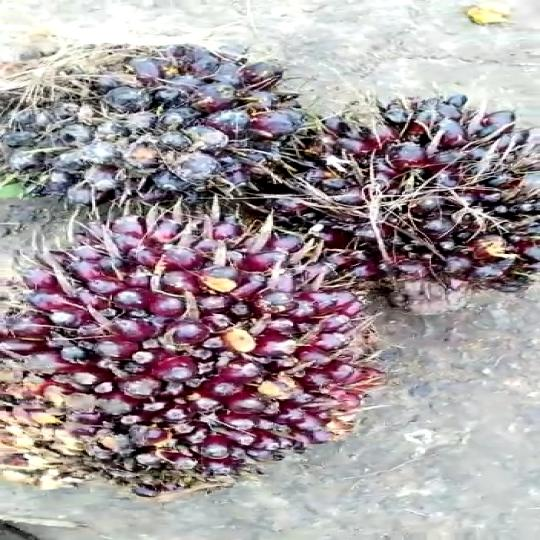kurang masak: (0, 207, 374, 506), (215, 90, 540, 313), (0, 36, 316, 217)
